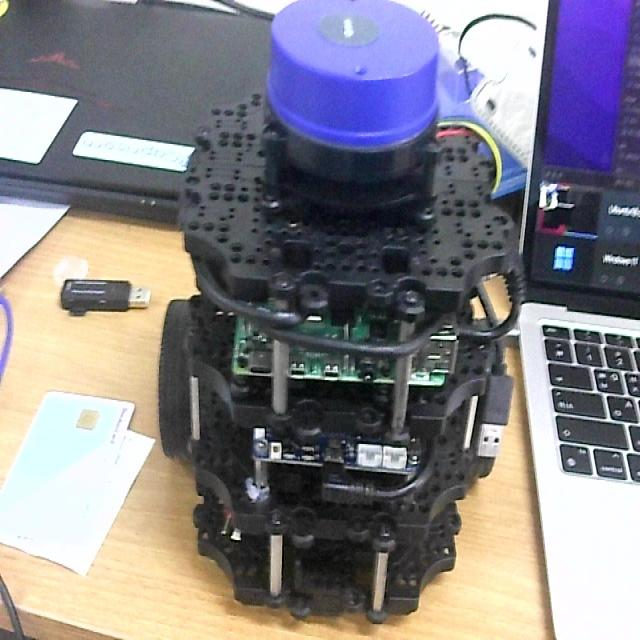turtle: (156, 0, 525, 631)
